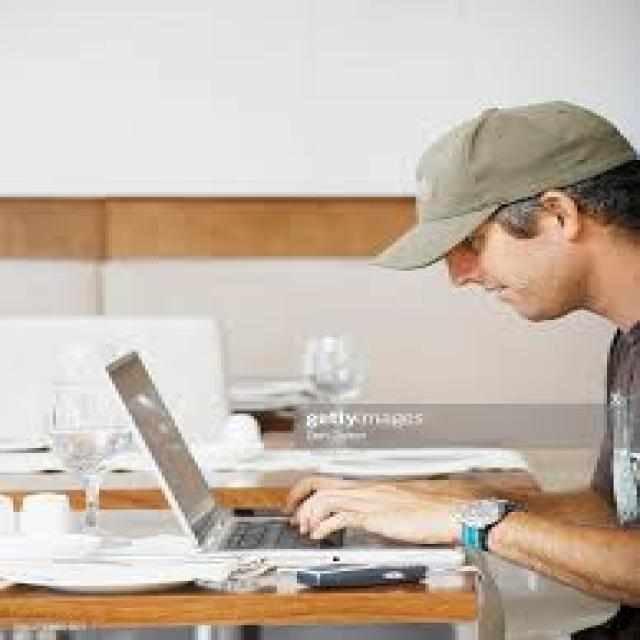3_gorra: (369, 96, 640, 273)
